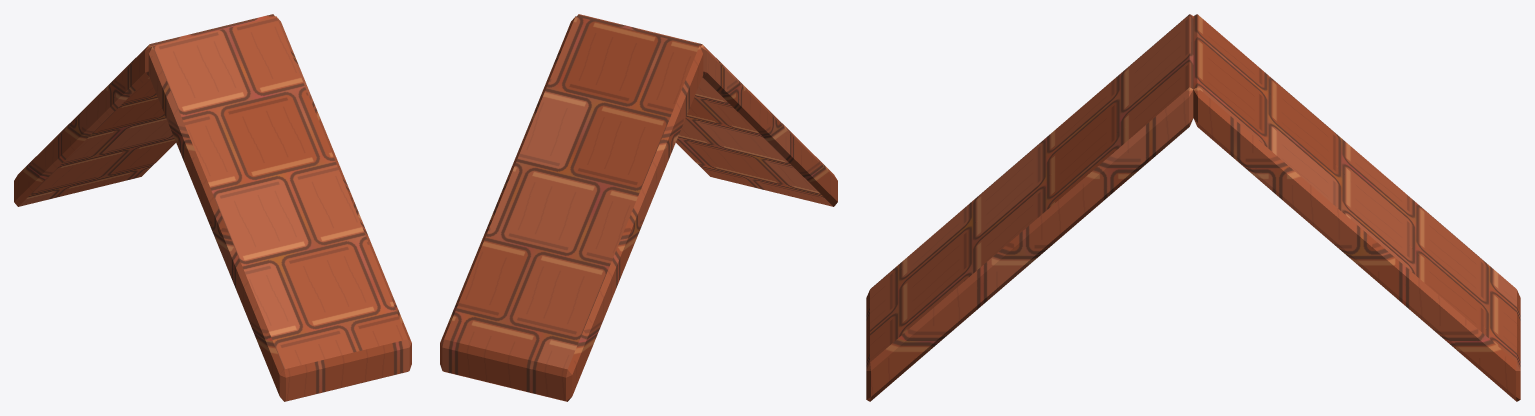
The model's file is SM_HH_V2_Roof_Entry.fbx.
3 views of the same model, side by side, from view 1: azimuth 30°, elevation 25°; view 2: azimuth 150°, elevation 25°; view 3: azimuth 270°, elevation 25° (orthographic). The views are drawn at different scales.
Parts seen in each view (by area): view 1: HH_V2_Roof_Entry; view 2: HH_V2_Roof_Entry; view 3: HH_V2_Roof_Entry.
Boxes of the visible parts, left/top/right/bottom form: HH_V2_Roof_Entry: left=14, top=14, right=411, bottom=401; HH_V2_Roof_Entry: left=440, top=14, right=837, bottom=401; HH_V2_Roof_Entry: left=866, top=14, right=1520, bottom=401.
Bounding box in the file's own units: 2.4 × 0.68 × 1.27.
